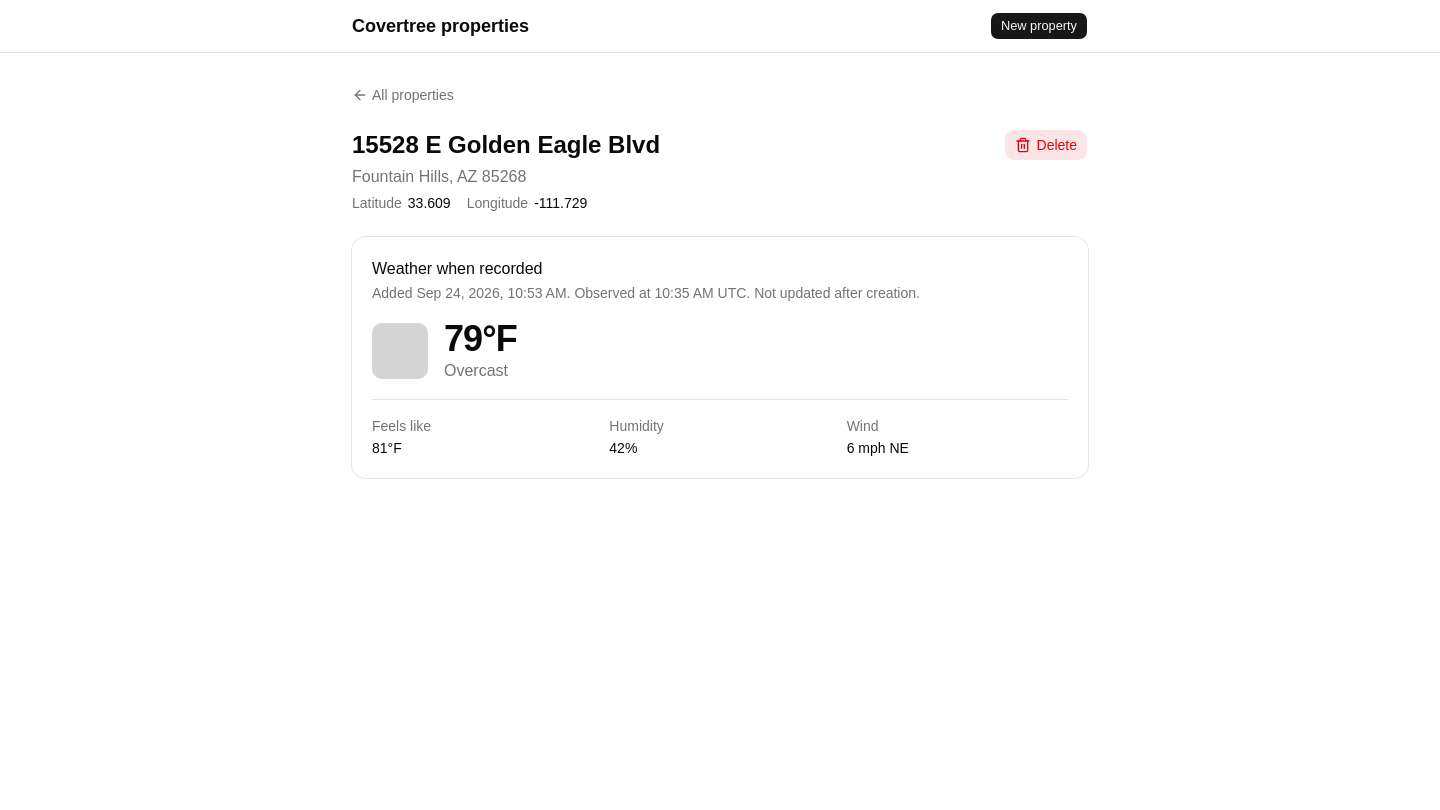
it: delete property › S6.6 treats an already-deleted property as gone and returns to the list
The image size is (1440, 810).
Expected: the heading "15528 E Golden Eagle Blvd" is shown, [352,129,660,161]
What coordinates should you click on to do the following:
click the button "Delete"
I would click on:
 (1046, 145)
Its box is [1004,129,1088,161].
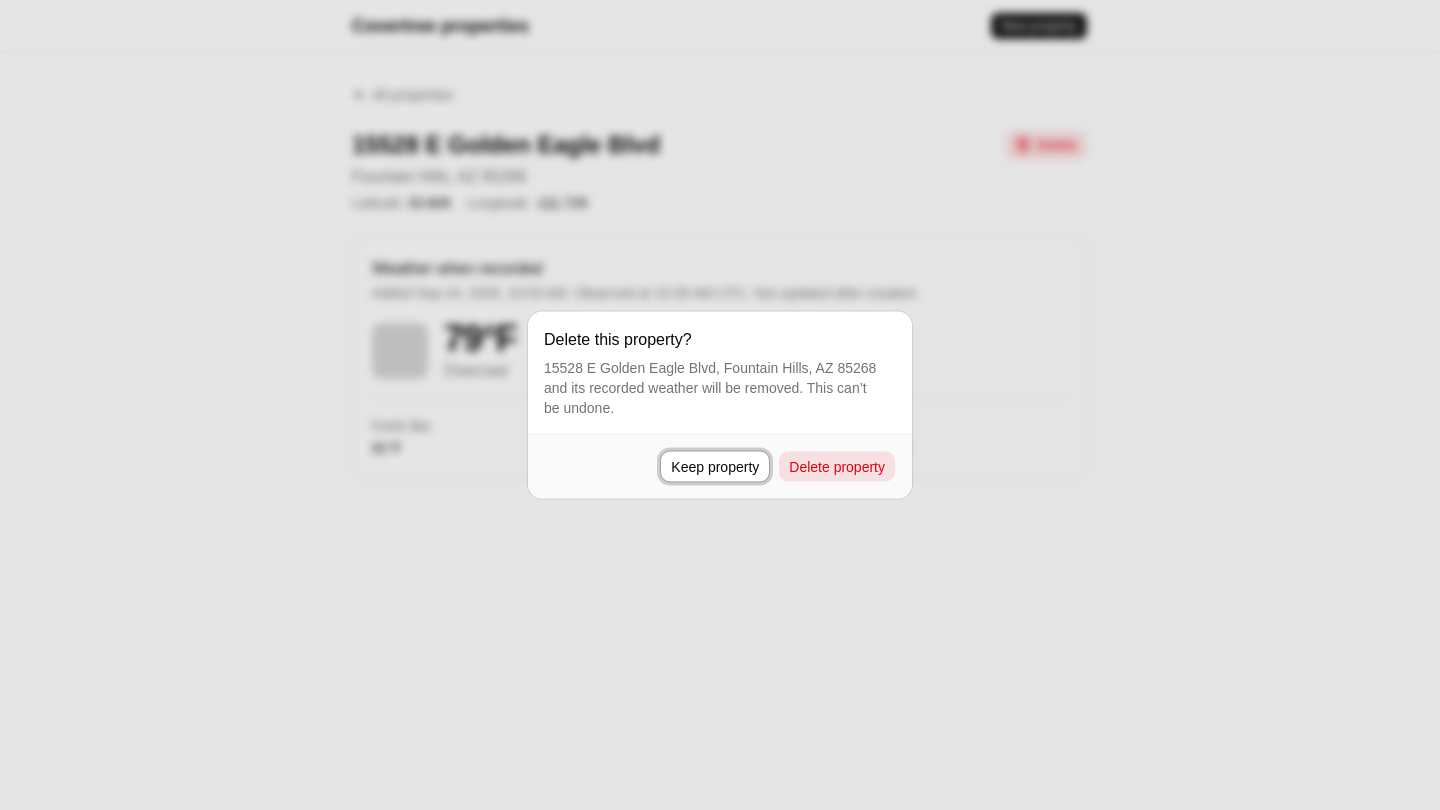
What coordinates should you click on to do the following:
click the button "Delete property"
I would click on:
 (837, 466)
Its box is [778,450,896,482].
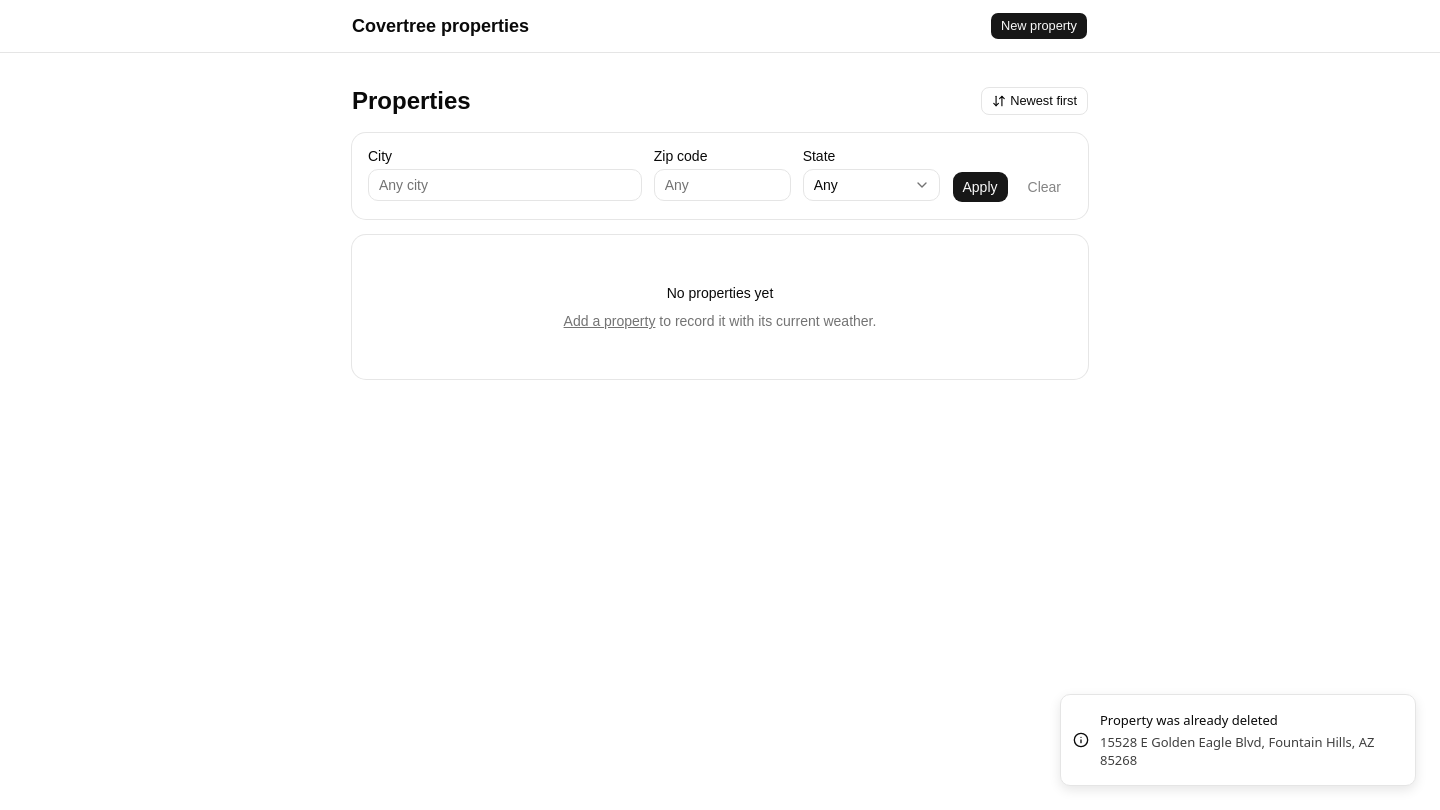
Expected: the text "No properties yet" is shown, [667,285,773,301]
Expected: the text "Property was already deleted" is shown, [1100,711,1278,729]
